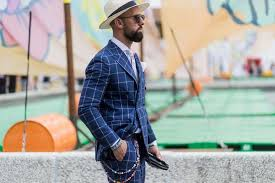Person: (78, 1, 163, 183)
